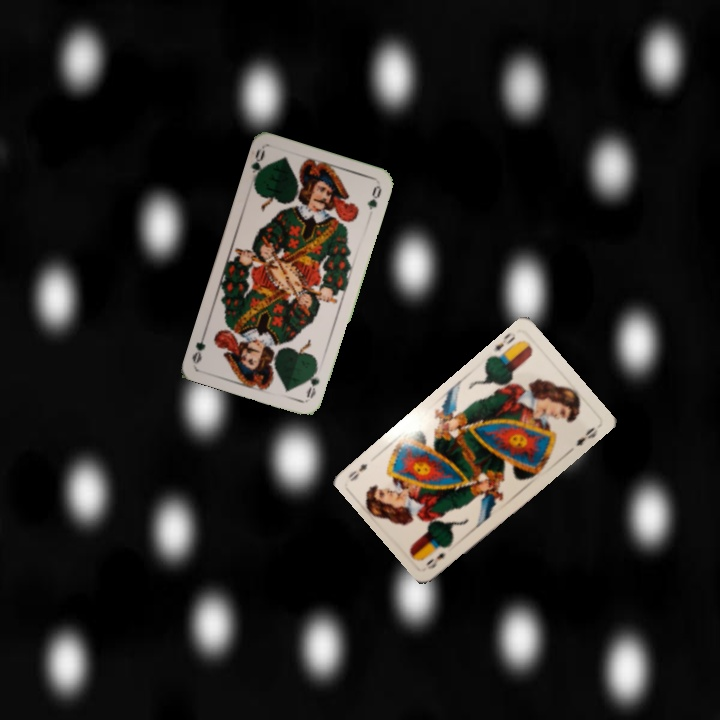EO: (489, 331, 519, 361), (422, 548, 448, 572)
GO: (247, 145, 268, 186), (302, 361, 322, 401)
